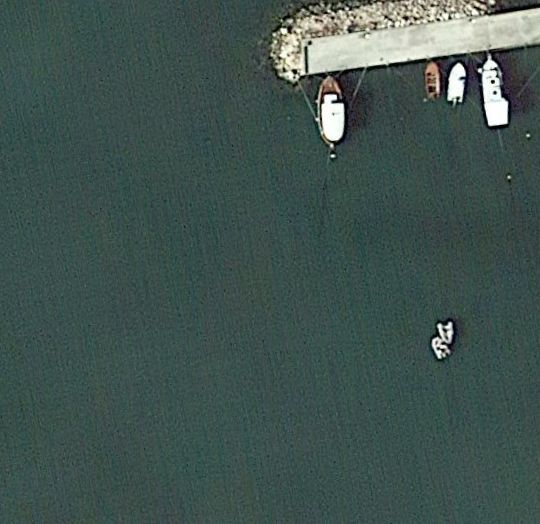boat: (309, 71, 351, 150), (479, 55, 514, 129), (445, 62, 474, 107), (416, 59, 442, 104)
